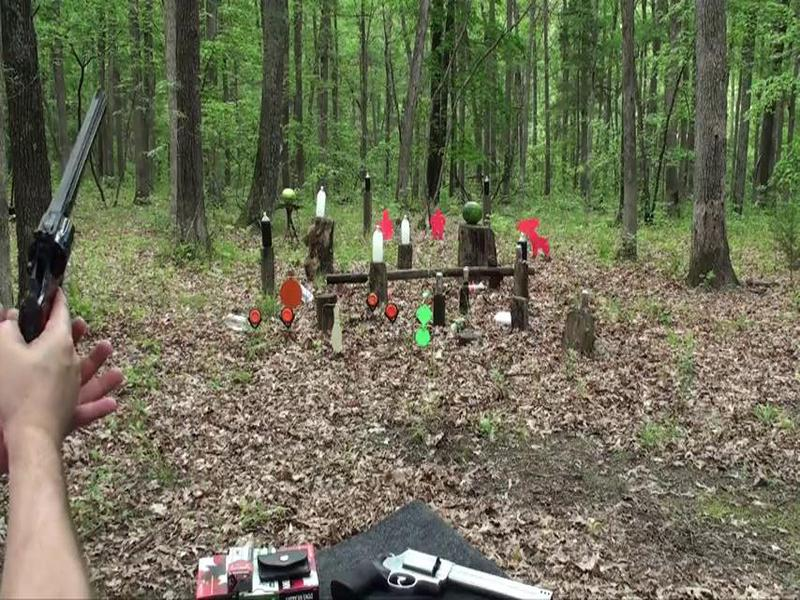Revolver: (1, 84, 119, 348)
